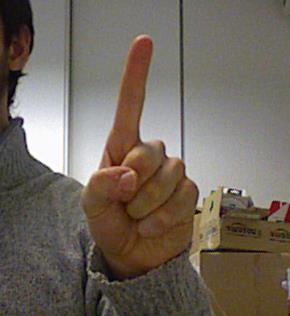up: (78, 30, 205, 266)
